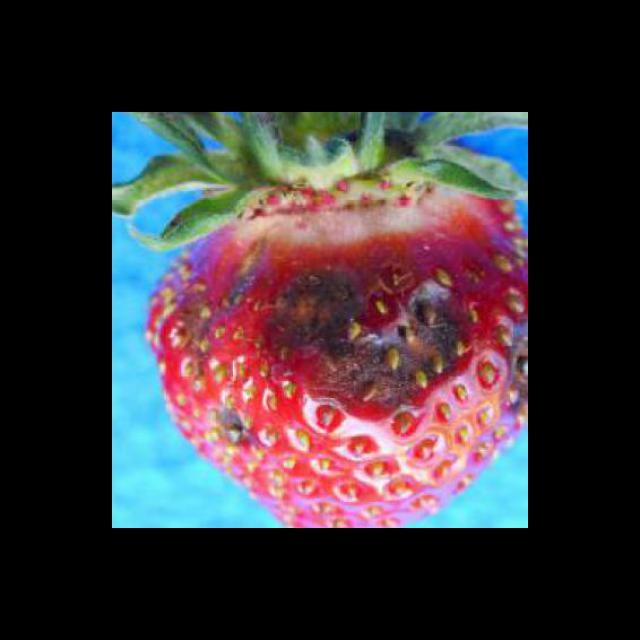Anthracnose Fruit Rot: (174, 226, 528, 450)
